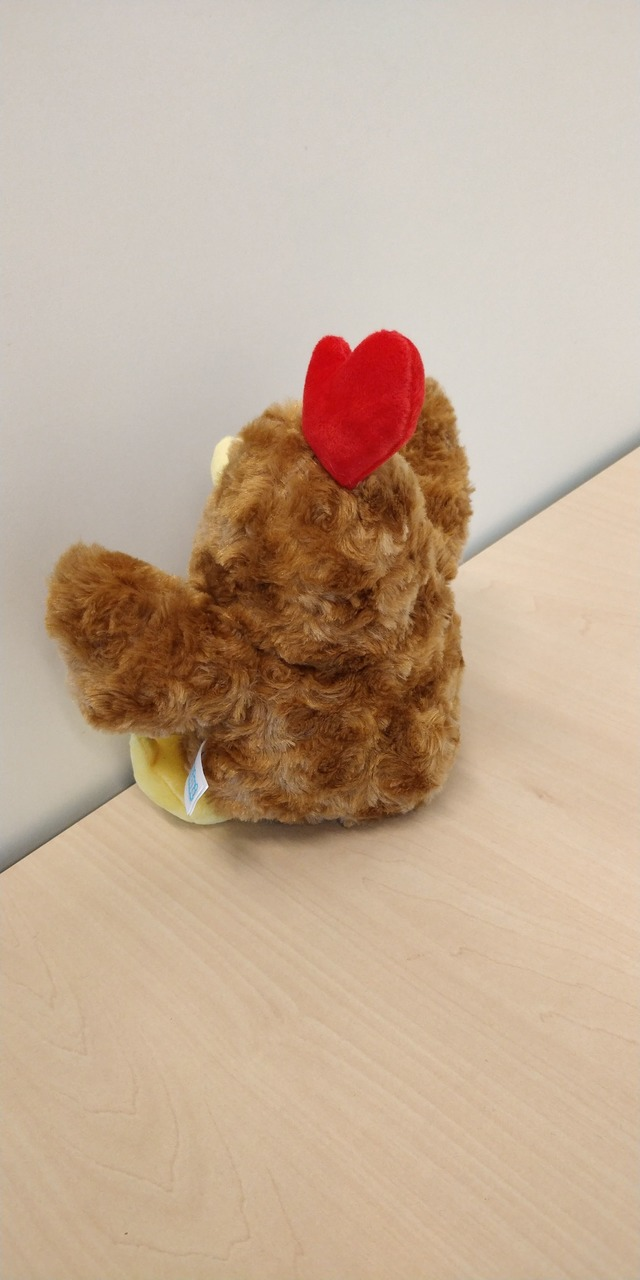fakeChicken: (44, 326, 476, 830)
